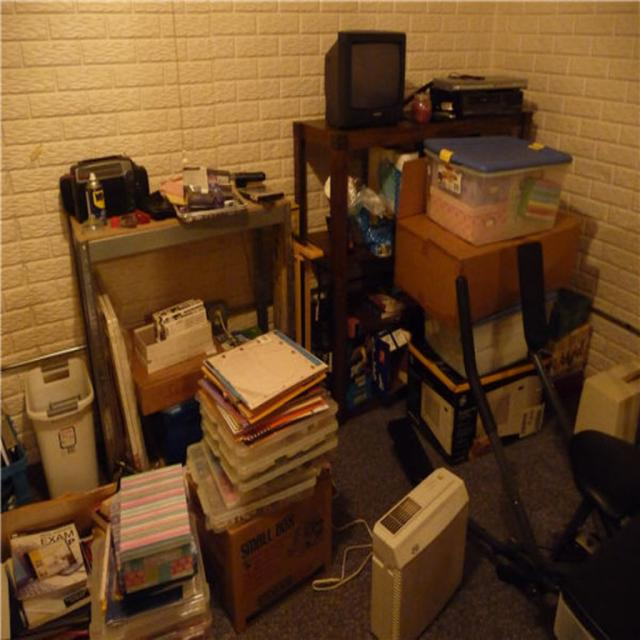Book: (200, 328, 328, 436)
